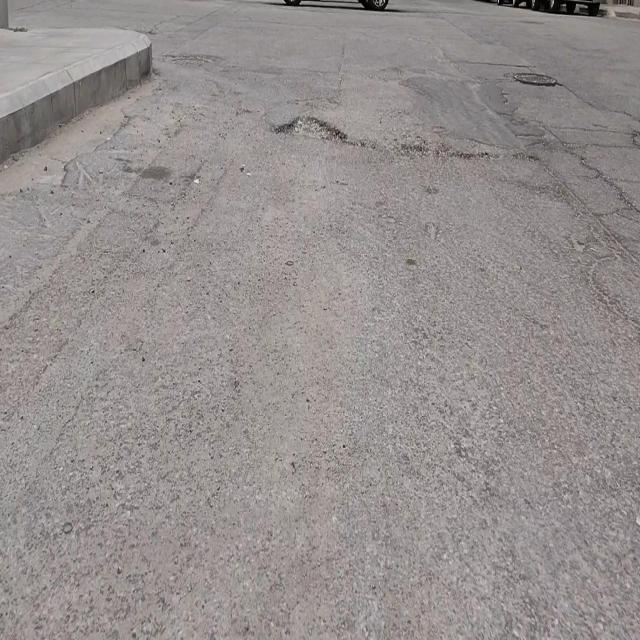Pothole: (273, 111, 346, 143)
